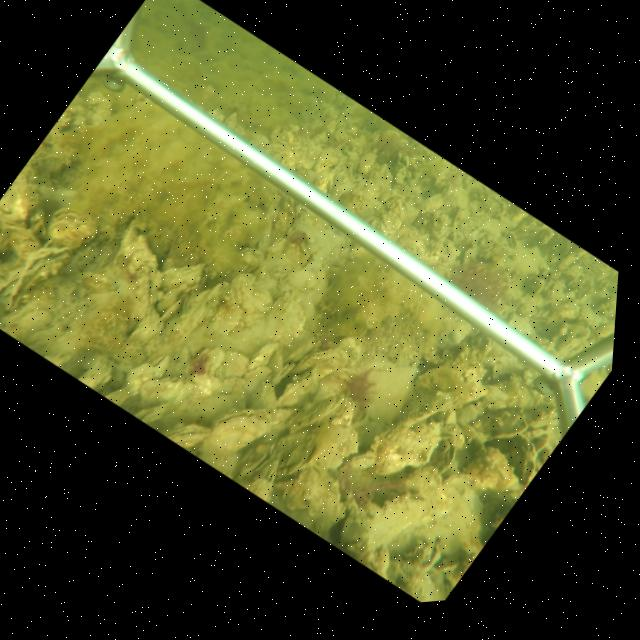Oyster-Closed: (229, 235, 313, 322), (86, 245, 159, 335), (337, 492, 430, 548), (199, 408, 286, 457), (168, 282, 226, 346), (104, 352, 171, 405), (7, 247, 67, 302), (288, 394, 346, 431), (282, 347, 350, 376), (139, 377, 197, 409), (280, 431, 315, 477), (161, 261, 210, 291), (166, 421, 210, 448), (247, 340, 279, 371), (238, 447, 272, 476), (155, 288, 179, 310)
Oyster-Indeterminate: (231, 287, 305, 350), (369, 416, 442, 477), (412, 350, 487, 403), (47, 208, 97, 248), (224, 348, 250, 378)
Oyster-Open: (457, 432, 539, 493), (502, 230, 520, 250)
